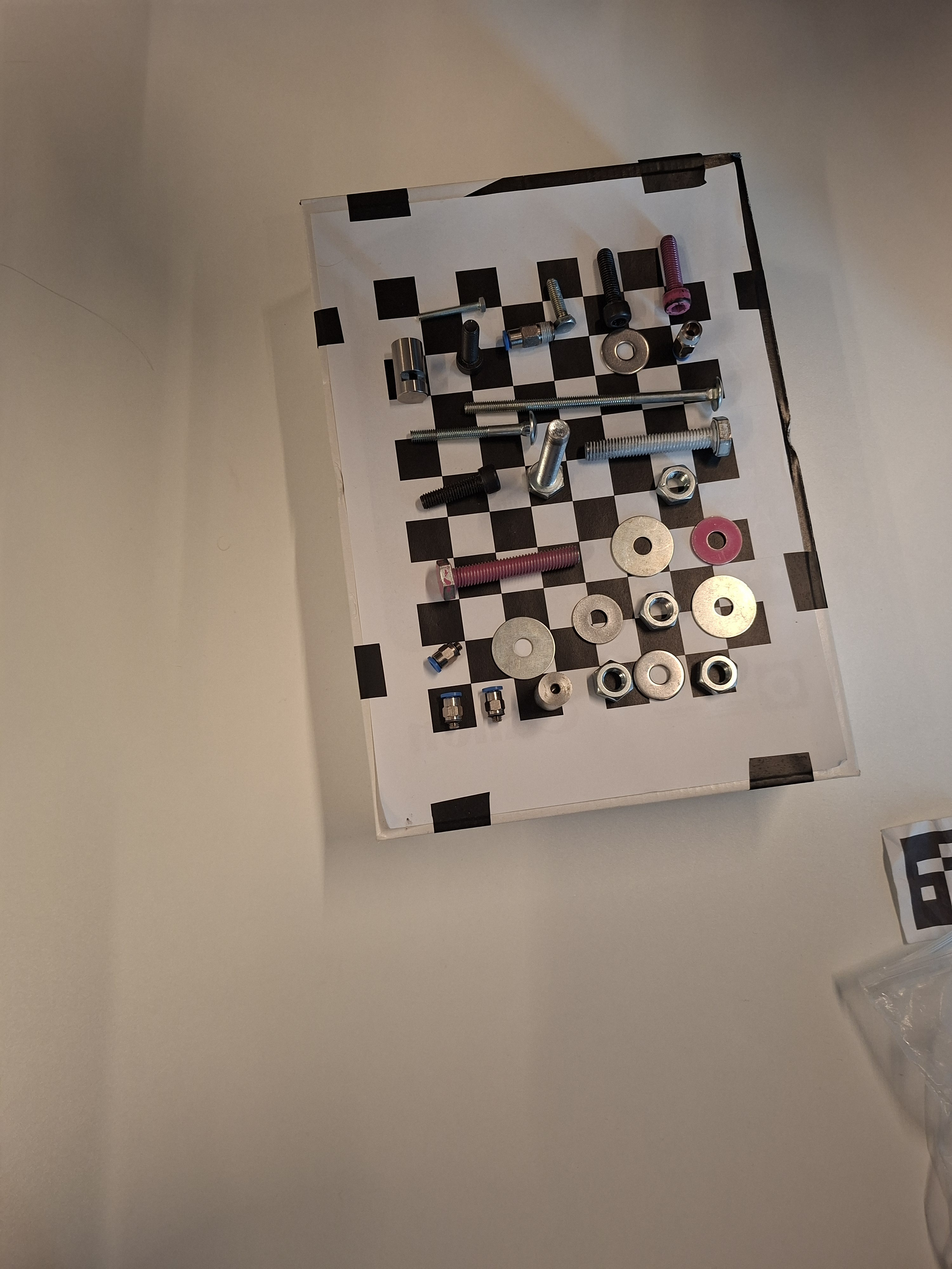allen_screw: (417, 457, 507, 521), (584, 240, 637, 331), (649, 229, 696, 317), (451, 316, 486, 376)
barrel_nut: (386, 334, 434, 408), (529, 668, 574, 715)
carriage_bolt: (461, 373, 730, 427), (402, 409, 541, 457)
hex_bolt: (431, 528, 583, 607), (577, 415, 734, 471), (514, 412, 593, 512), (537, 271, 584, 338), (410, 294, 492, 331)
hex_nut: (583, 649, 646, 712), (689, 646, 749, 707), (649, 460, 704, 510), (635, 589, 684, 632)
pneumatic_fitting: (663, 312, 709, 366), (496, 317, 559, 354), (422, 635, 467, 678), (479, 680, 512, 730), (438, 689, 467, 732)
washer: (604, 506, 680, 587), (481, 614, 557, 685), (687, 572, 757, 641), (570, 590, 624, 648), (632, 647, 686, 703), (598, 324, 653, 378), (686, 515, 742, 566)
